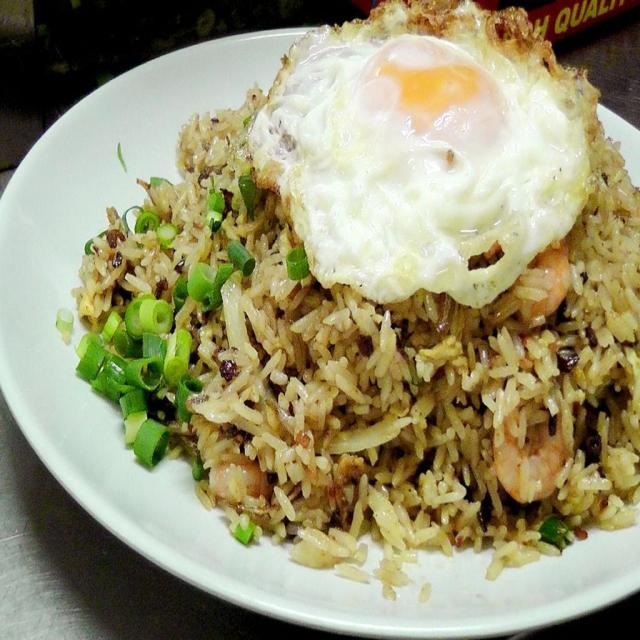Nasi Goreng: (124, 71, 640, 554)
